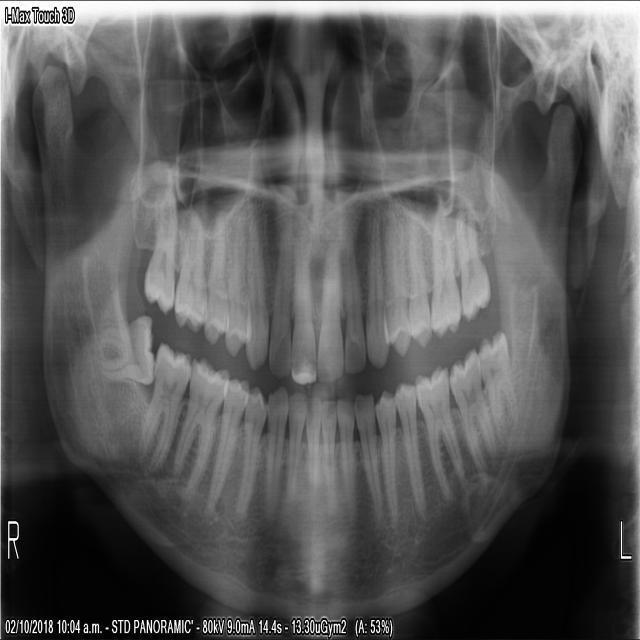LCD: (356, 388, 384, 522)
LCU: (365, 201, 392, 377)
LID: (336, 394, 359, 518), (320, 391, 338, 501)
LIU: (315, 216, 344, 387), (342, 210, 367, 377)
LMD: (417, 357, 468, 515), (450, 340, 500, 485), (480, 324, 519, 457)
LMU: (454, 191, 494, 332), (428, 197, 462, 351)
LPMD: (394, 374, 429, 524), (376, 383, 399, 526)
LPMU: (382, 196, 411, 362), (404, 196, 434, 355)
RCD: (261, 387, 288, 519)
RCU: (244, 190, 269, 376)
RID: (282, 385, 307, 513), (305, 391, 320, 490)
RIU: (266, 187, 295, 383), (289, 194, 318, 390)
RMD: (129, 333, 193, 491), (167, 349, 231, 504), (92, 315, 157, 399)
RMU: (139, 177, 178, 321), (171, 196, 207, 338)
RPMD: (204, 372, 250, 513), (232, 385, 265, 522)
RPMU: (223, 190, 247, 362), (203, 190, 227, 349)
